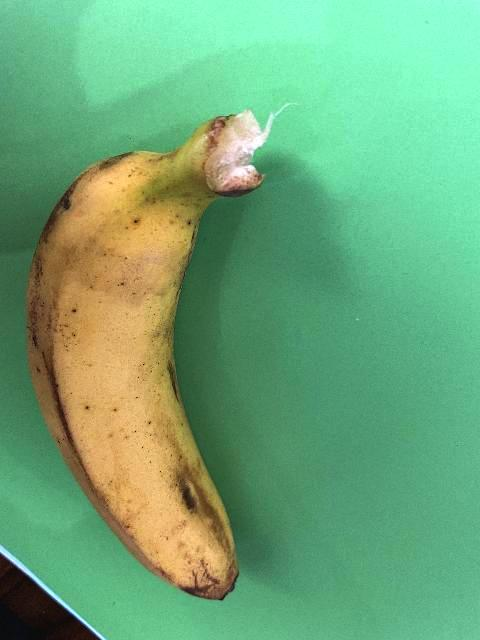banana: (23, 111, 264, 603)
